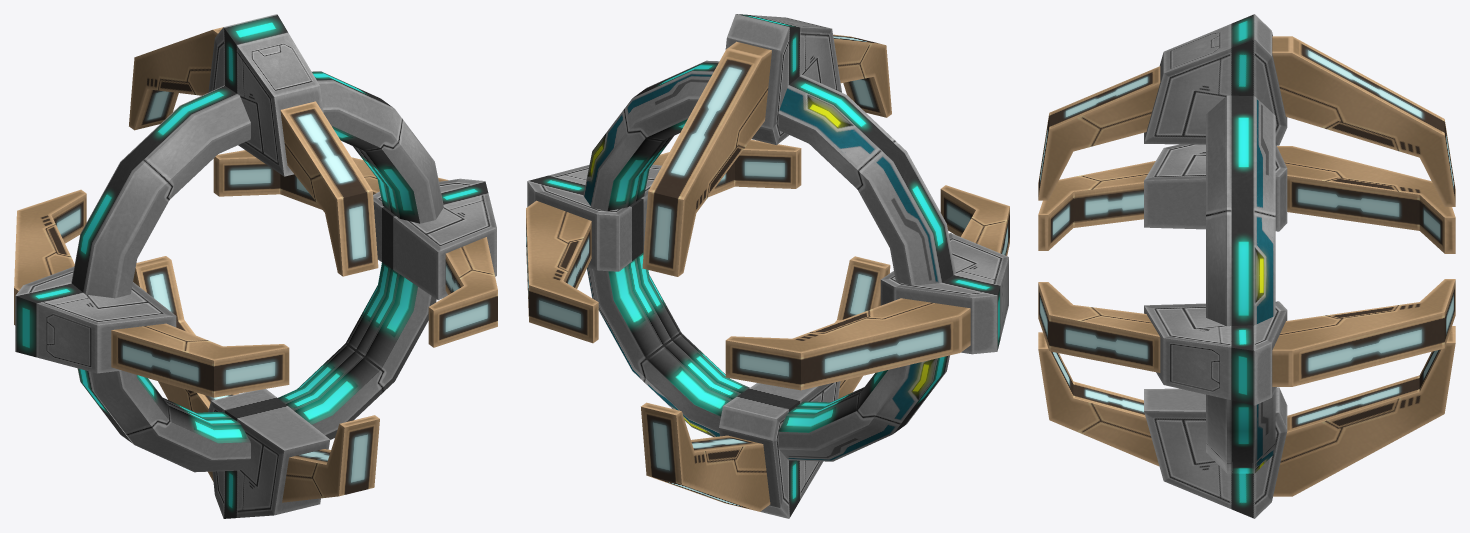
File: uni01_crystalline_001.fbx
The picture shows the model from 3 angles, left to right: view 1: azimuth 30°, elevation 25°; view 2: azimuth 150°, elevation 25°; view 3: azimuth 270°, elevation 25°; orthographic projection. The views are drawn at different scales.
Parts seen in each view (by area): view 1: uni01_crystalline_001; view 2: uni01_crystalline_001; view 3: uni01_crystalline_001.
Boxes of the visible parts, box(x1,y1,x2,y2) form: uni01_crystalline_001: box(14, 14, 497, 518); uni01_crystalline_001: box(526, 14, 1009, 518); uni01_crystalline_001: box(1038, 14, 1455, 518).
Bounding box in the file's own units: 439 × 439 × 346.
